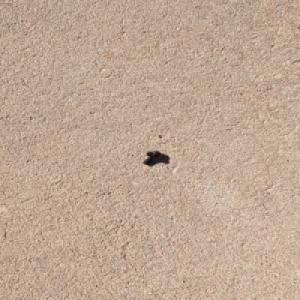BoltWasher: (142, 150, 163, 164)
